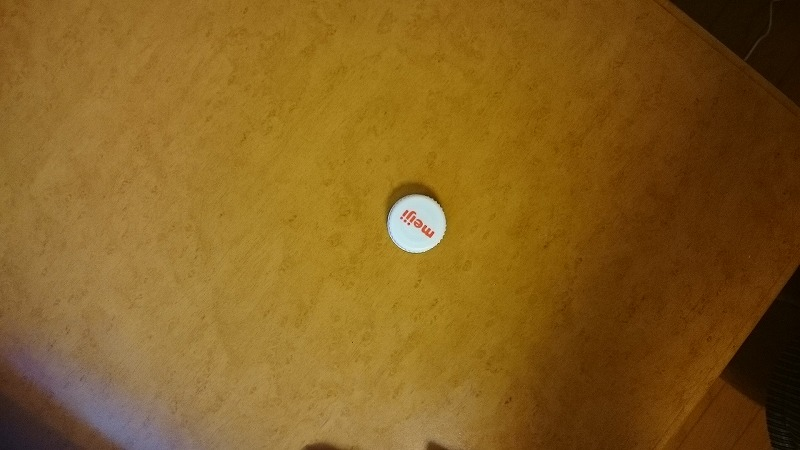B: (383, 189, 460, 266)
